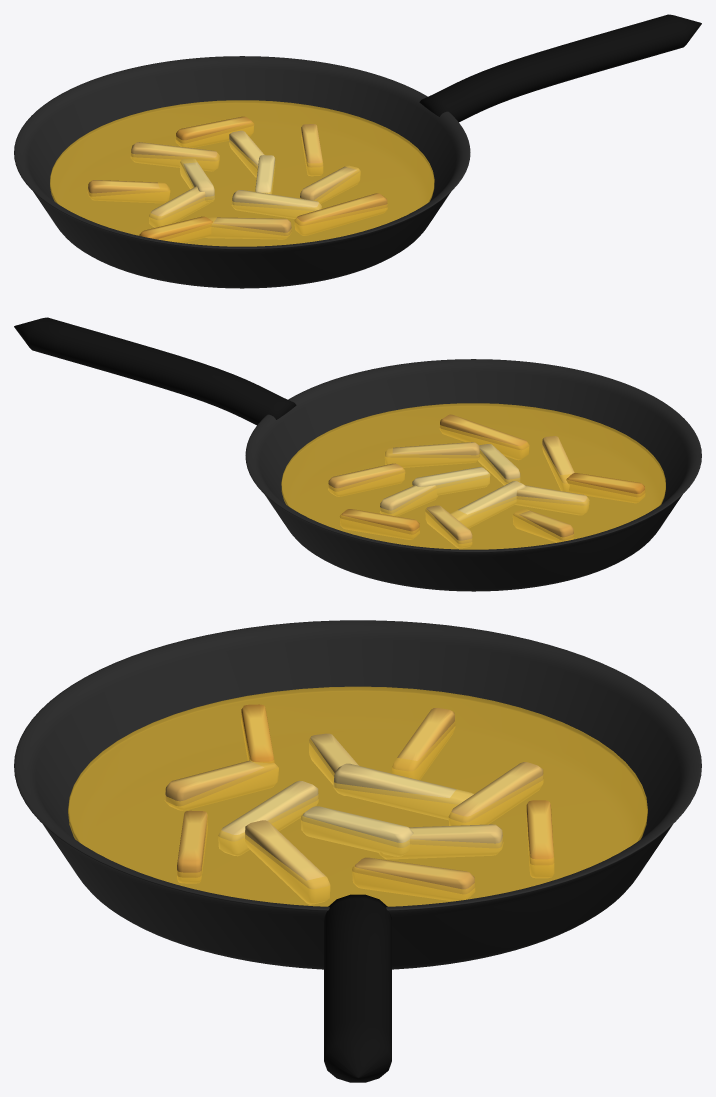
File: paso-2.glb
The picture shows the model from 3 angles, top to bottom: view 1: azimuth 30°, elevation 25°; view 2: azimuth 150°, elevation 25°; view 3: azimuth 270°, elevation 25°; orthographic projection. The views are drawn at different scales.
Parts seen in each view (by area): view 1: paso-2-0, paso-2-2, paso-2-1, paso-2-13, paso-2-10, paso-2-5, paso-2-12, paso-2-9, paso-2-14, paso-2-7, paso-2-8, paso-2-15 (+4 smaller); view 2: paso-2-0, paso-2-2, paso-2-1, paso-2-8, paso-2-13, paso-2-14, paso-2-11, paso-2-15, paso-2-7, paso-2-4, paso-2-3, paso-2-12 (+4 smaller); view 3: paso-2-0, paso-2-2, paso-2-1, paso-2-4, paso-2-11, paso-2-10, paso-2-3, paso-2-8, paso-2-9, paso-2-6, paso-2-5, paso-2-12 (+4 smaller).
Part boxes in pixels (left/top/right/bottom): paso-2-0: left=14, top=56, right=470, bottom=288; paso-2-2: left=50, top=100, right=434, bottom=246; paso-2-1: left=419, top=14, right=701, bottom=122; paso-2-13: left=294, top=193, right=387, bottom=235; paso-2-10: left=206, top=217, right=291, bottom=239; paso-2-5: left=232, top=190, right=321, bottom=218; paso-2-12: left=87, top=180, right=169, bottom=202; paso-2-9: left=131, top=142, right=219, bottom=170; paso-2-14: left=176, top=116, right=254, bottom=147; paso-2-7: left=149, top=186, right=209, bottom=227; paso-2-8: left=300, top=165, right=360, bottom=203; paso-2-15: left=139, top=216, right=212, bottom=242; paso-2-0: left=245, top=359, right=701, bottom=591; paso-2-2: left=281, top=403, right=665, bottom=549; paso-2-1: left=14, top=317, right=296, bottom=425; paso-2-8: left=385, top=442, right=479, bottom=467; paso-2-13: left=439, top=414, right=529, bottom=459; paso-2-14: left=340, top=509, right=419, bottom=539; paso-2-11: left=328, top=463, right=405, bottom=496; paso-2-15: left=566, top=473, right=645, bottom=502; paso-2-7: left=516, top=485, right=589, bottom=514; paso-2-4: left=450, top=481, right=526, bottom=528; paso-2-3: left=412, top=467, right=490, bottom=494; paso-2-12: left=513, top=509, right=574, bottom=542; paso-2-0: left=14, top=620, right=701, bottom=969; paso-2-2: left=68, top=686, right=647, bottom=906; paso-2-1: left=324, top=894, right=391, bottom=1082; paso-2-4: left=333, top=763, right=473, bottom=819; paso-2-11: left=352, top=857, right=474, bottom=900; paso-2-10: left=165, top=760, right=278, bottom=810; paso-2-3: left=301, top=806, right=413, bottom=856; paso-2-8: left=245, top=820, right=329, bottom=904; paso-2-9: left=448, top=762, right=543, bottom=825; paso-2-6: left=379, top=824, right=503, bottom=858; paso-2-5: left=218, top=780, right=318, bottom=855; paso-2-12: left=392, top=708, right=455, bottom=779.
Bounding box in the file's own units: 0.4219 × 0.054 × 0.2539.
